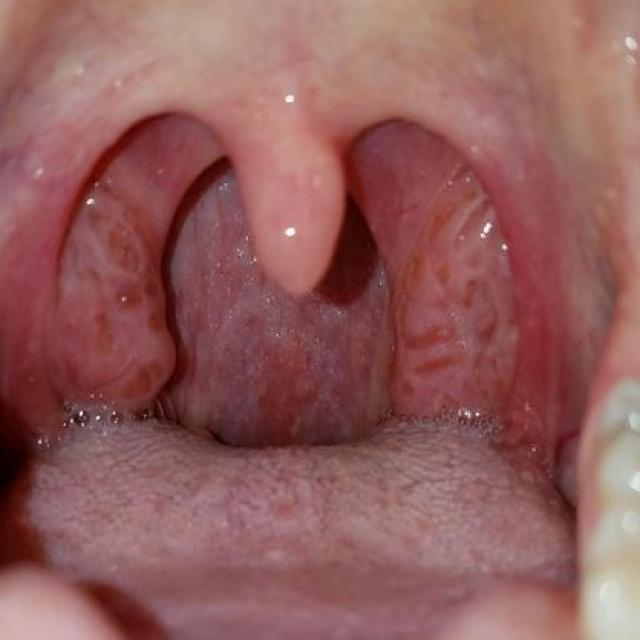Non Pharyngitis: (384, 166, 538, 439), (48, 176, 186, 425)
